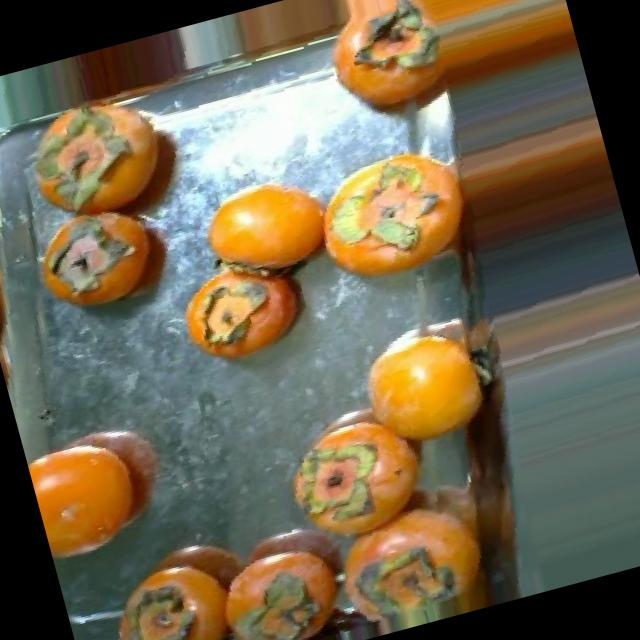Fruit: (20, 398, 199, 586), (332, 300, 514, 471), (180, 152, 358, 302), (162, 246, 330, 388), (31, 202, 194, 338), (270, 425, 392, 536), (208, 0, 390, 69), (381, 0, 563, 36)
